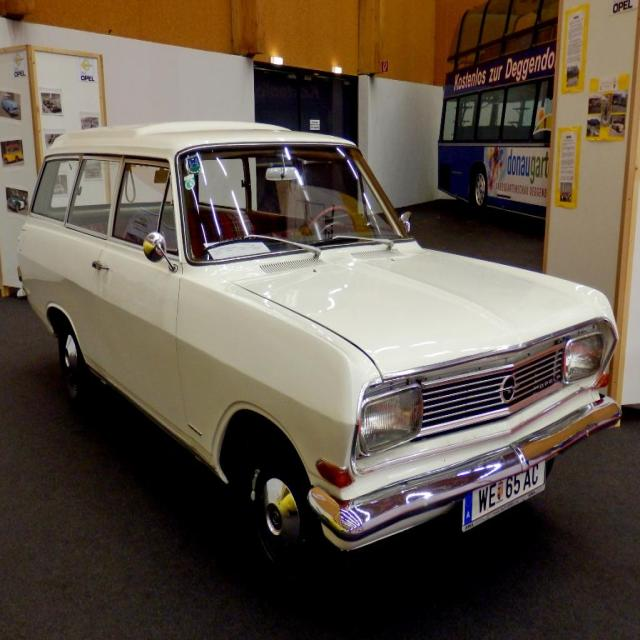car: (13, 109, 624, 588)
